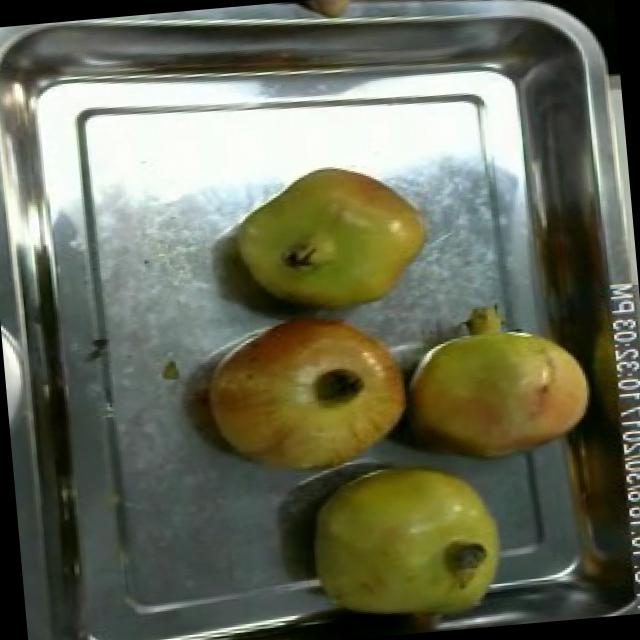fruit: (183, 298, 423, 494), (287, 444, 518, 640), (388, 291, 600, 474), (225, 152, 446, 326), (282, 0, 380, 26)
